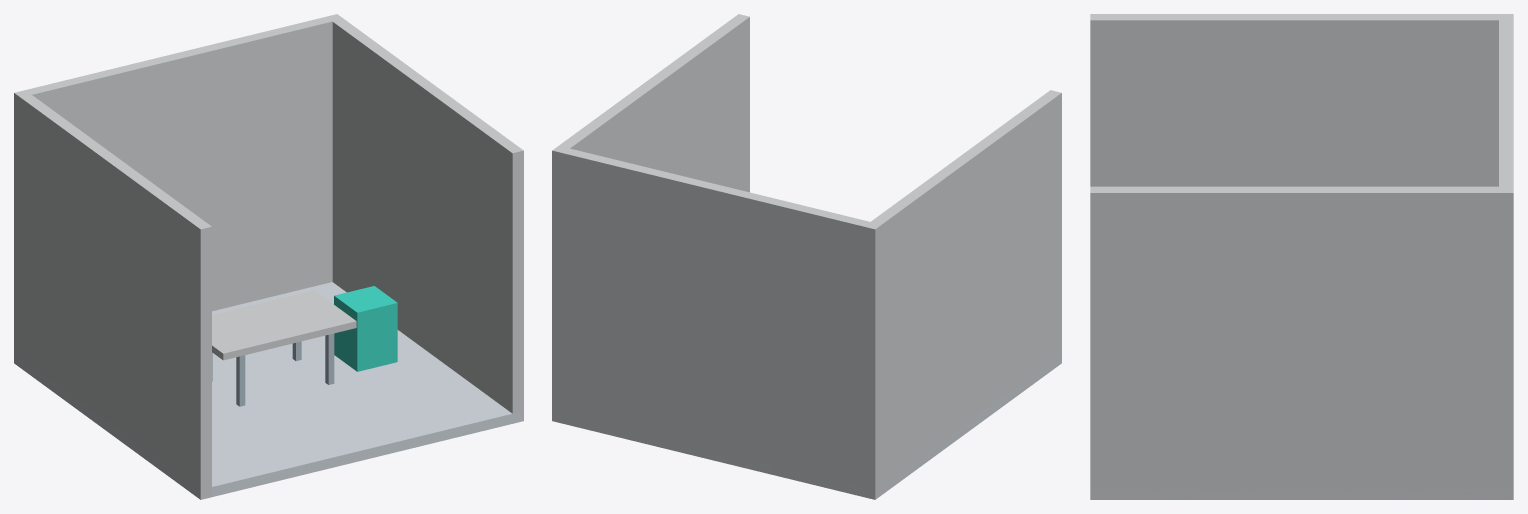
3 views of the same model, side by side, from view 1: azimuth 30°, elevation 25°; view 2: azimuth 150°, elevation 25°; view 3: azimuth 270°, elevation 25° (orthographic). The views are drawn at different scales.
Parts seen in each view (by area): view 1: Exhibition Booth Concept; view 2: Exhibition Booth Concept; view 3: Exhibition Booth Concept.
Part boxes in pixels (x1=…): Exhibition Booth Concept: x1=14, y1=14, x2=523, y2=499; Exhibition Booth Concept: x1=552, y1=14, x2=1061, y2=499; Exhibition Booth Concept: x1=1090, y1=14, x2=1513, y2=499.
Size of the model in its own units: 4 by 3.2 by 4.
